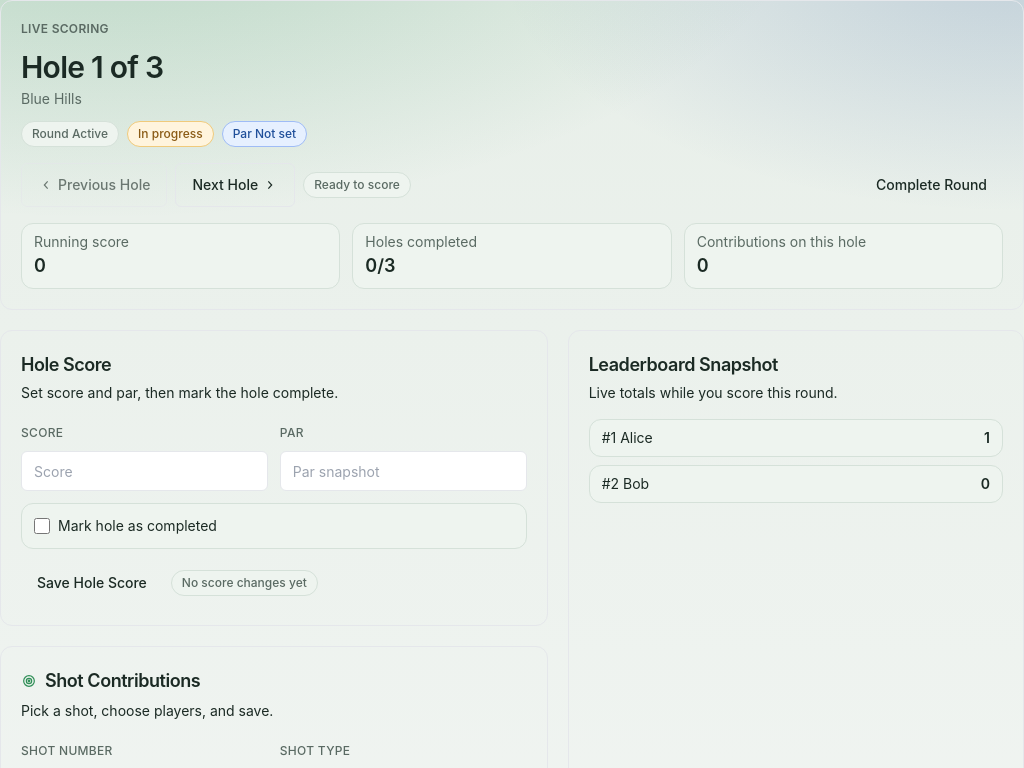
ScoringRoute › preserves saved completion state when navigating back to a previously saved hole
Expected: the heading "Hole 1 of 3" is shown, left=21, top=49, right=163, bottom=85
In the number field with placeholder "Score": (144, 471) left=21, top=451, right=268, bottom=491, type "4"
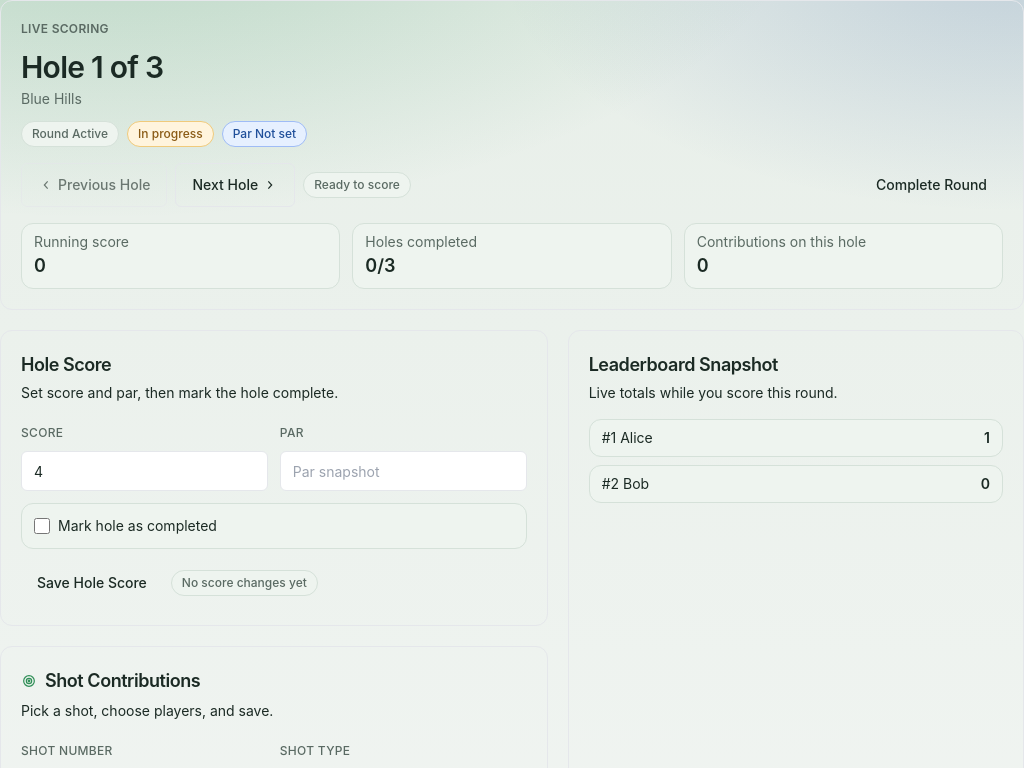
In the number field with placeholder "Par snapshot": (403, 471) left=280, top=451, right=527, bottom=491, type "4"
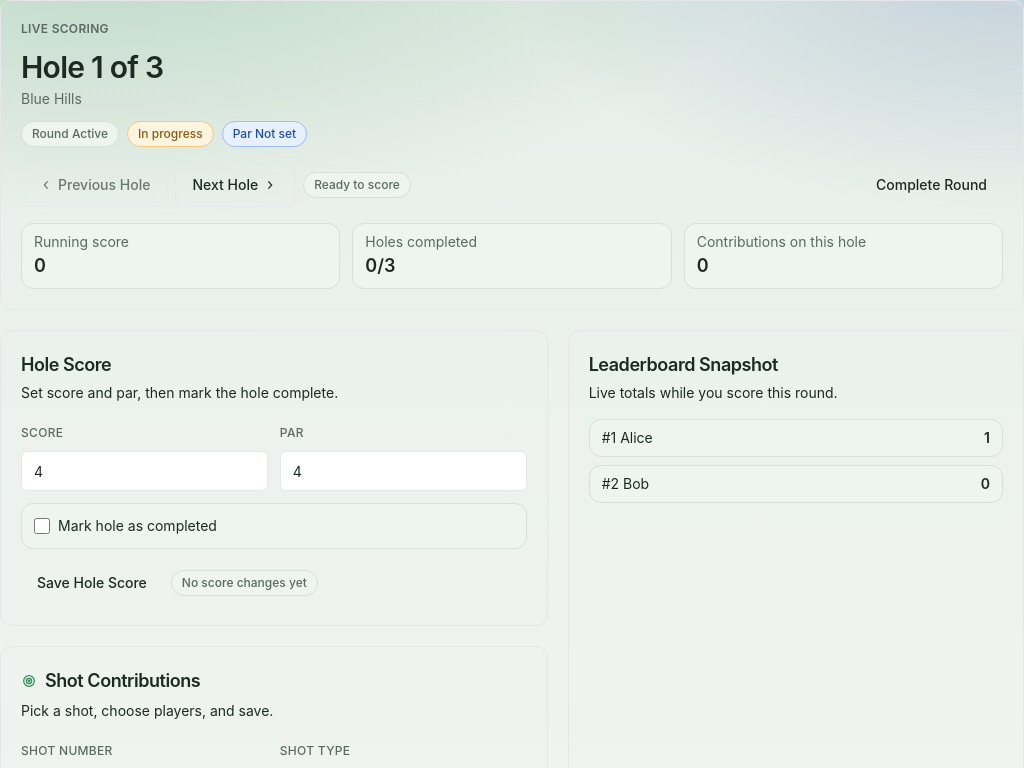
Click the checkbox labelled "Mark hole as completed": (42, 526) left=34, top=518, right=50, bottom=534
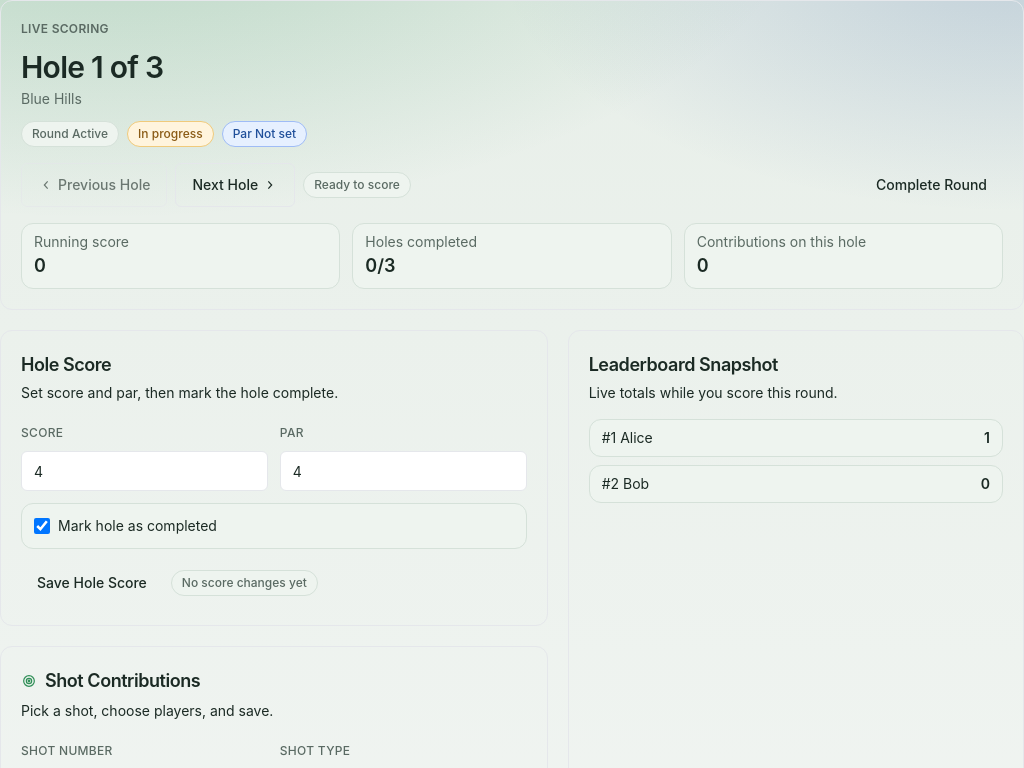
Click the button "Save Hole Score": (92, 583) left=21, top=561, right=163, bottom=605
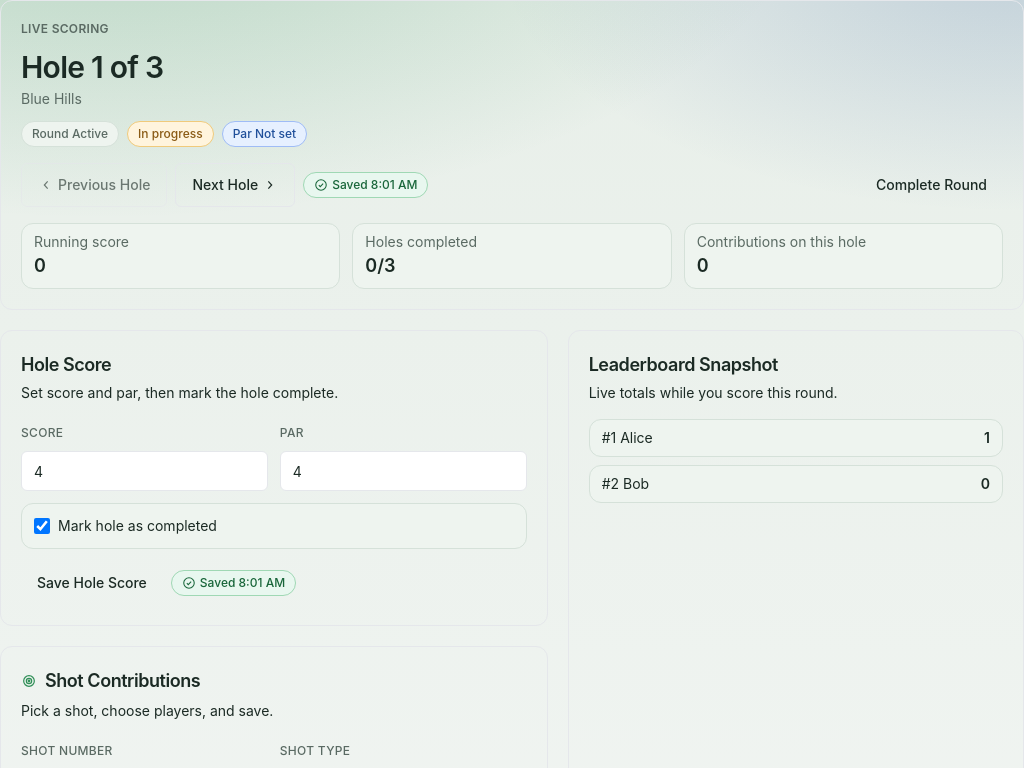
Click the button "Next Hole": (235, 185) left=176, top=163, right=295, bottom=207
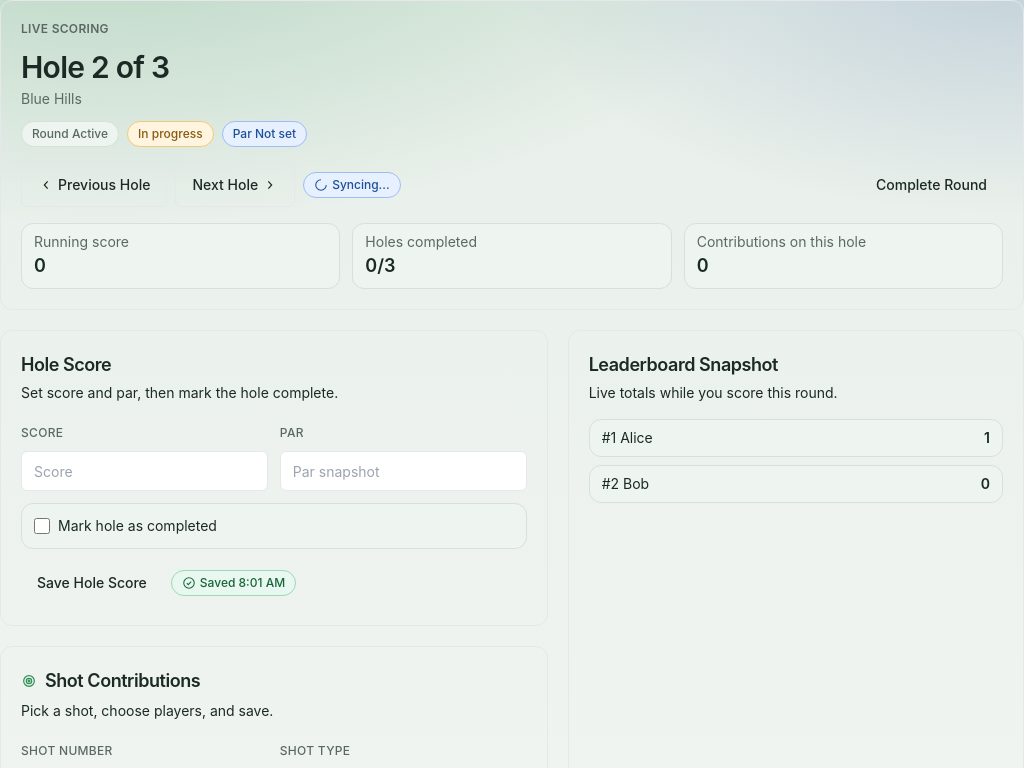
Expected: the heading "Hole 2 of 3" is shown, left=21, top=49, right=169, bottom=85
Click the button "Previous Hole": (94, 185) left=21, top=163, right=168, bottom=207
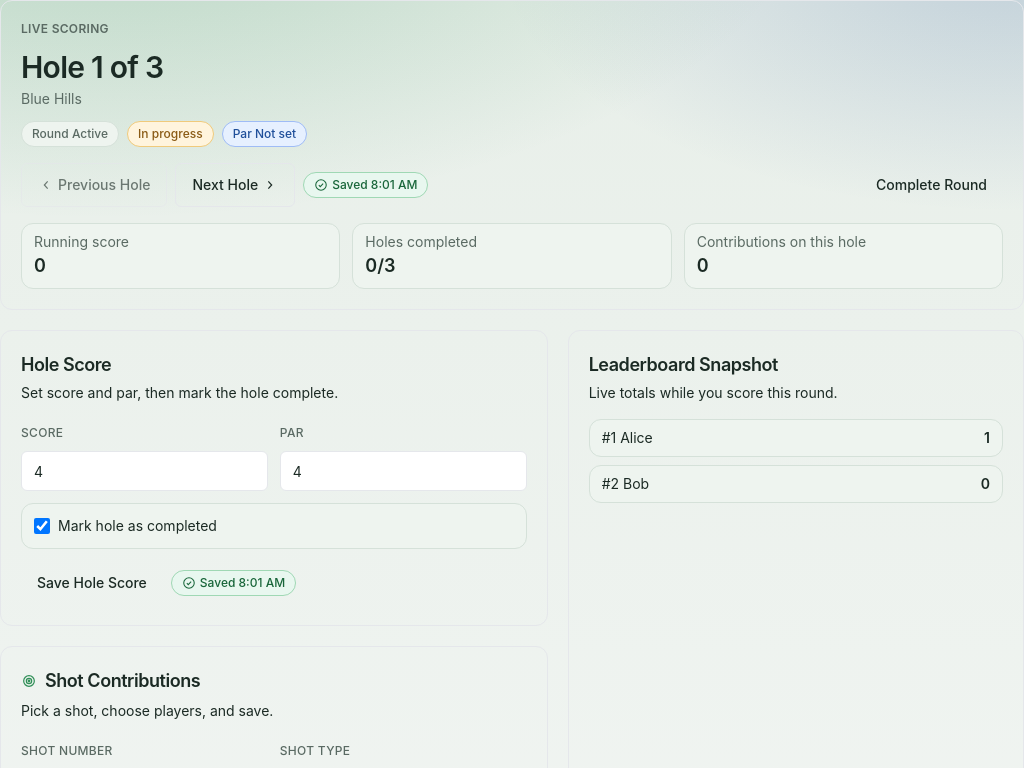
Expected: the checkbox labelled "Mark hole as completed" is checked, left=34, top=518, right=50, bottom=534
Expected: the heading "Hole 1 of 3" is shown, left=21, top=49, right=163, bottom=85
